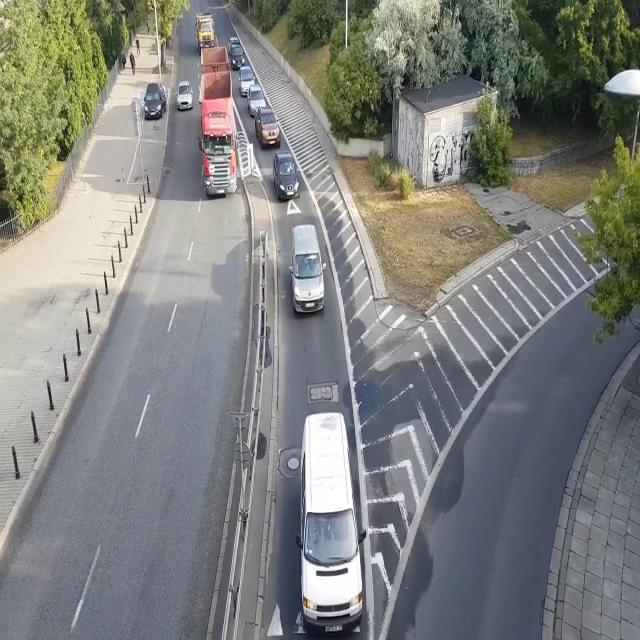car: (273, 150, 300, 201), (254, 107, 281, 149), (144, 82, 166, 120), (246, 84, 266, 117), (238, 65, 256, 97), (176, 81, 193, 111), (230, 43, 245, 69), (228, 36, 240, 54)
truck: (198, 45, 239, 195), (195, 9, 215, 54)
van: (295, 410, 366, 636), (288, 223, 326, 315)
